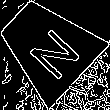N_NW: (16, 15, 79, 78)
